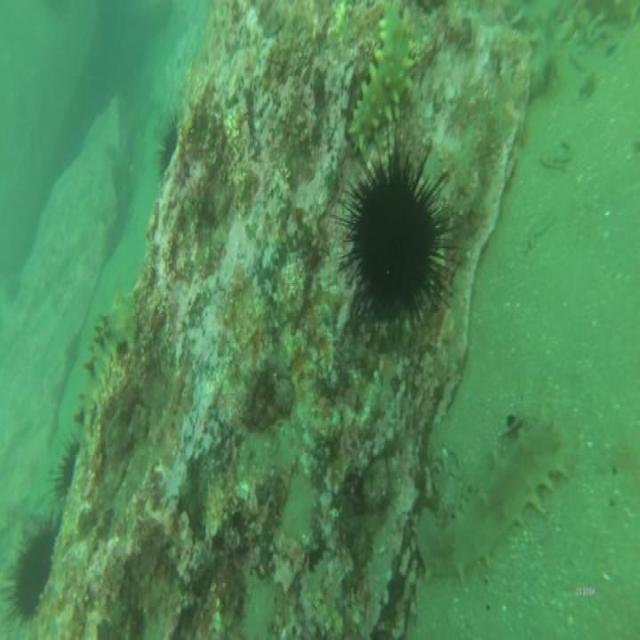echinus: (329, 138, 461, 350), (1, 518, 58, 626)
holothurian: (408, 412, 567, 592), (353, 2, 419, 161)
